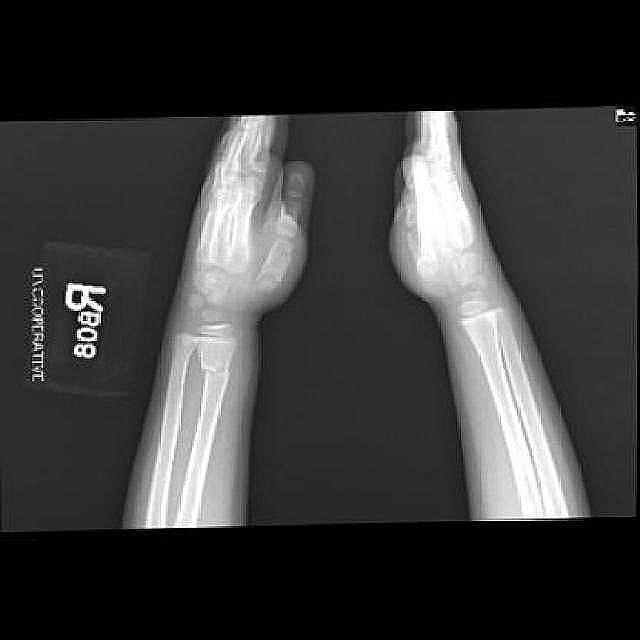bone: (200, 361, 228, 377)
